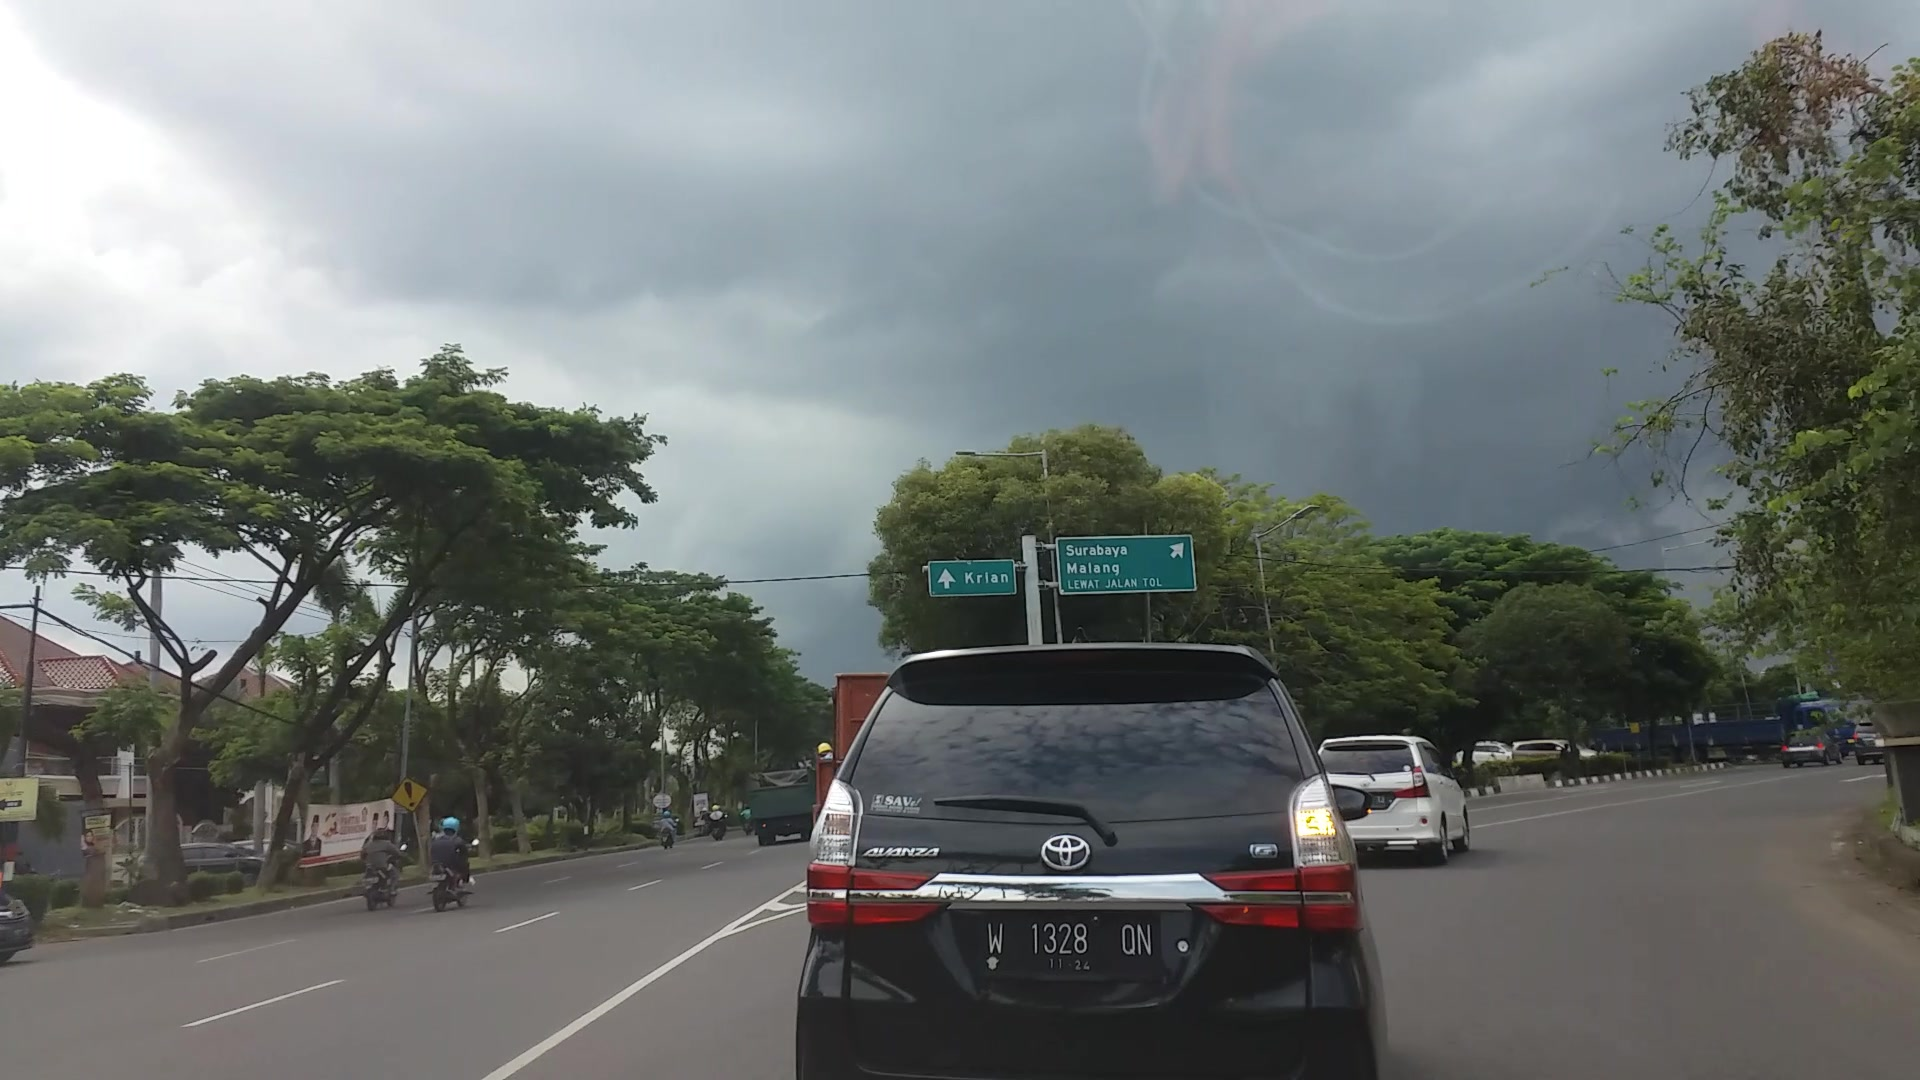plate_positive: (982, 914, 1156, 973)
